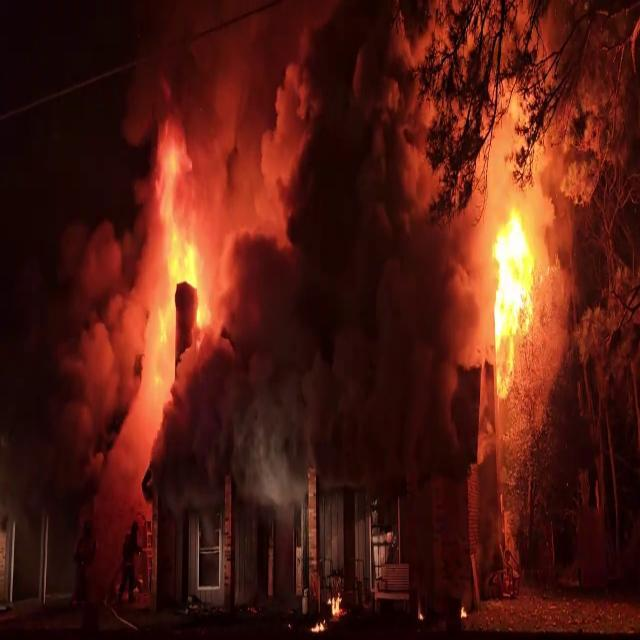Fire: (486, 192, 534, 390)
Smoke: (48, 0, 460, 534)
